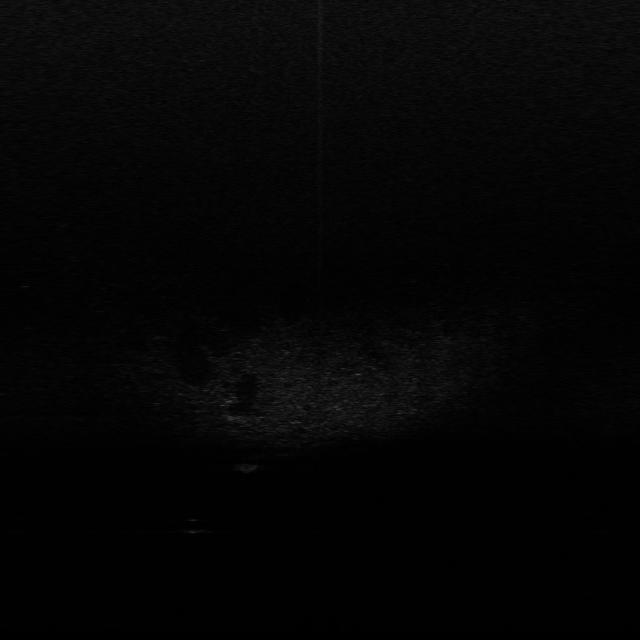ball: (181, 516, 208, 536)
cube: (227, 459, 266, 475)
